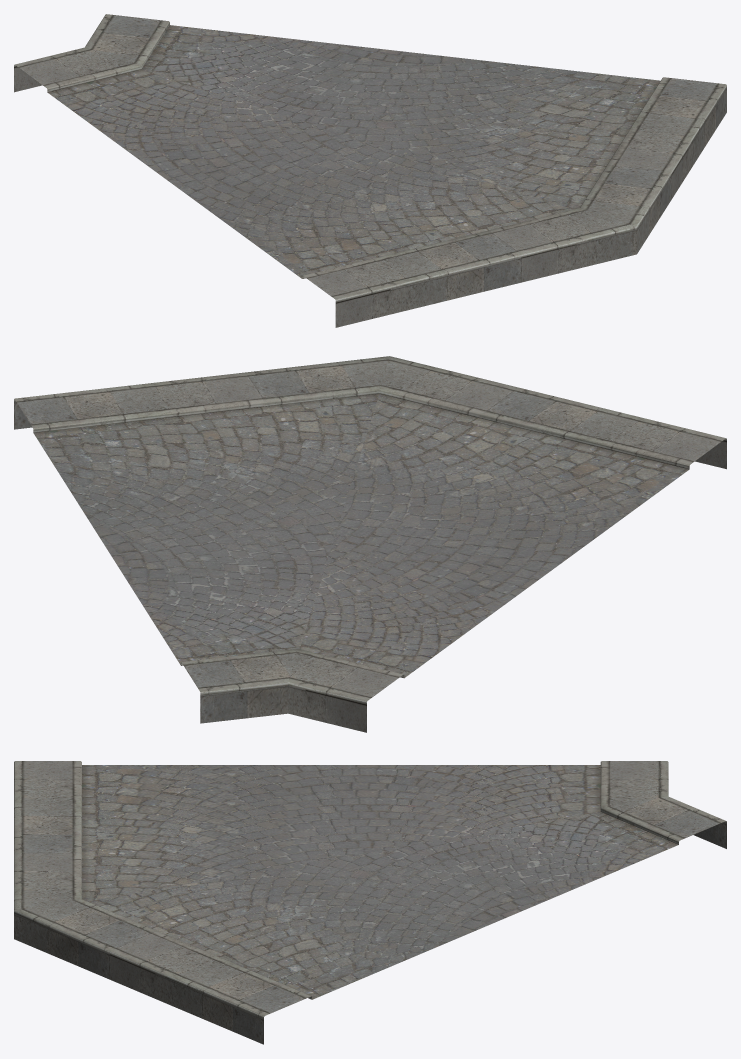
Rendered from bg_lut_lucastle_floor03_sm_jjy.FBX.
The picture shows the model from 3 angles, top to bottom: view 1: azimuth 30°, elevation 25°; view 2: azimuth 150°, elevation 25°; view 3: azimuth 270°, elevation 25°; orthographic projection. The views are drawn at different scales.
Visible parts, largest first — view 1: bg_lut_lucastle_floor03_sm_jjy; view 2: bg_lut_lucastle_floor03_sm_jjy; view 3: bg_lut_lucastle_floor03_sm_jjy.
Part boxes in pixels (x1,y1,x2,y2): bg_lut_lucastle_floor03_sm_jjy: (14, 14, 726, 327); bg_lut_lucastle_floor03_sm_jjy: (14, 356, 726, 732); bg_lut_lucastle_floor03_sm_jjy: (14, 761, 726, 1044).
Bounding box in the file's own units: 709 × 37 × 837.
